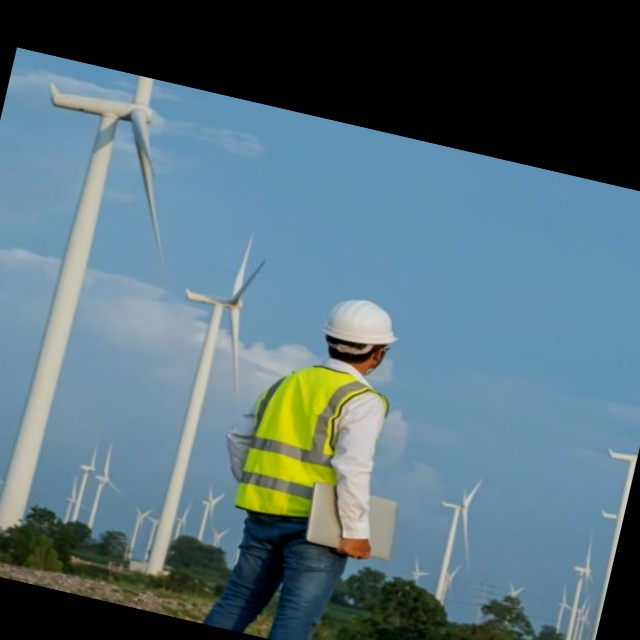Con_Casco: (319, 292, 406, 379)
Con_Chaleco: (230, 349, 396, 536)
